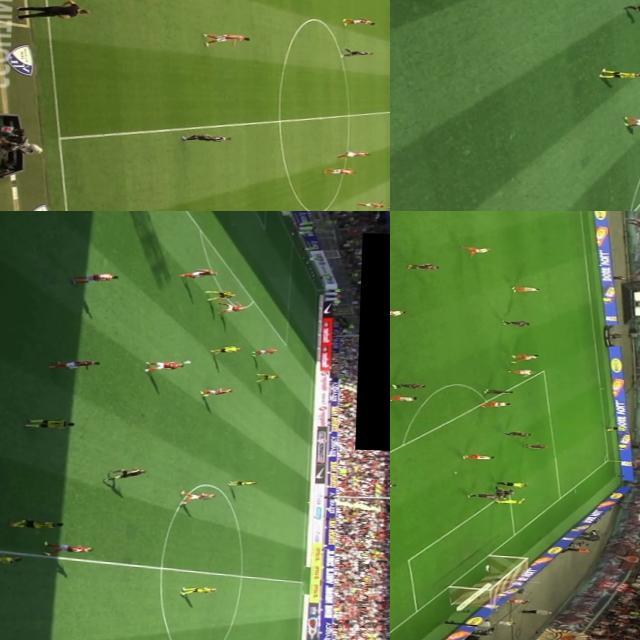ball: (181, 356, 195, 364)
player: (36, 539, 94, 554), (184, 130, 236, 144), (29, 415, 74, 430), (56, 356, 104, 370), (12, 518, 66, 530), (70, 271, 128, 281), (207, 31, 250, 44), (178, 490, 218, 503), (340, 14, 380, 26), (600, 67, 640, 78), (337, 146, 373, 158), (180, 268, 220, 278), (200, 387, 234, 398), (146, 360, 187, 369), (336, 47, 376, 56), (180, 585, 220, 594), (200, 290, 238, 299), (478, 398, 512, 408), (391, 379, 427, 388), (0, 552, 23, 566), (462, 452, 496, 461), (249, 344, 279, 354), (216, 301, 246, 311), (510, 284, 540, 294), (406, 262, 442, 270), (465, 243, 491, 254), (483, 387, 518, 395), (207, 344, 241, 352), (466, 489, 496, 498), (496, 496, 526, 505), (504, 428, 532, 437), (511, 352, 539, 361), (620, 115, 640, 127), (230, 478, 260, 486), (502, 318, 532, 326), (326, 168, 356, 175), (254, 372, 280, 380), (390, 393, 416, 401), (358, 200, 386, 207), (507, 368, 535, 374), (524, 442, 550, 448), (390, 308, 409, 315), (497, 486, 508, 496), (498, 488, 516, 494), (390, 478, 397, 489)
